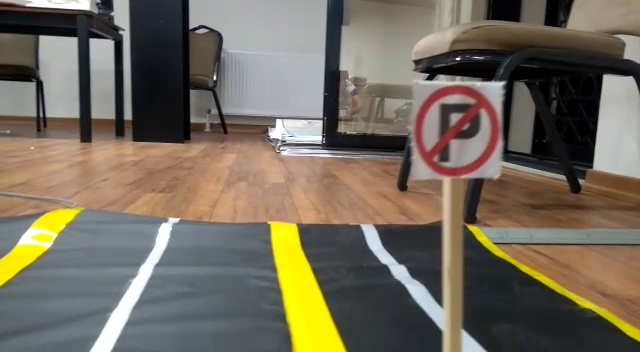park_yapilmaz: (413, 81, 501, 175)
